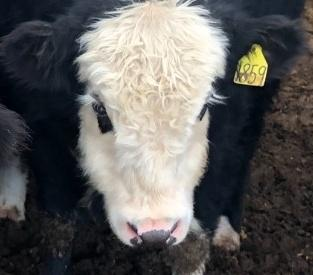muzzles: (110, 212, 193, 252)
